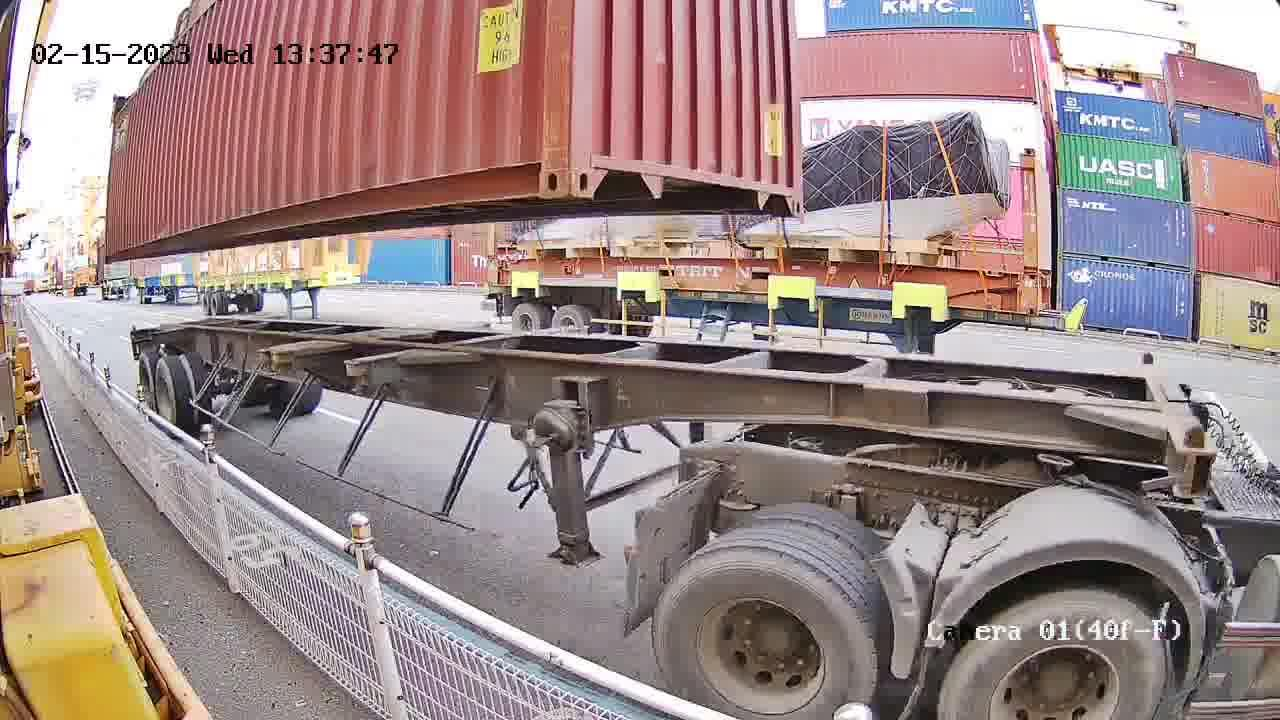Cone: (1165, 422, 1210, 497), (1134, 350, 1160, 372)
Hole_L: (568, 132, 627, 198)
Hole_R: (514, 133, 572, 197), (762, 158, 805, 214)
Tire: (652, 546, 877, 718), (939, 590, 1173, 719)
